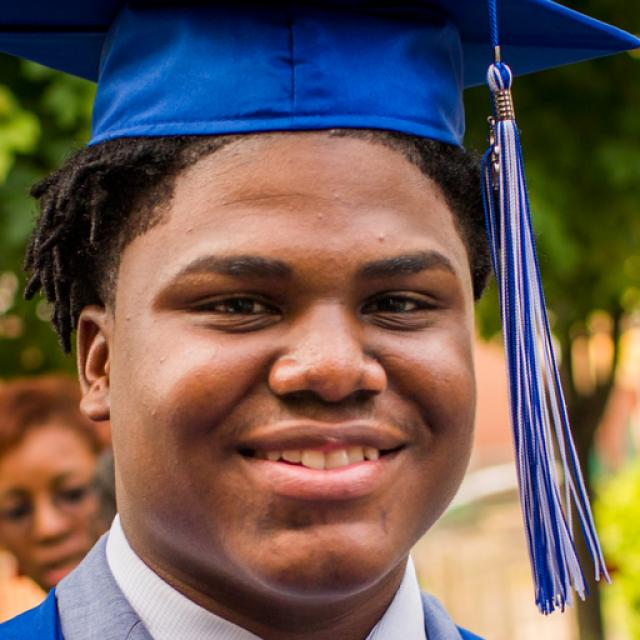Acne: (120, 308, 135, 333), (143, 407, 162, 426), (371, 230, 388, 246)
